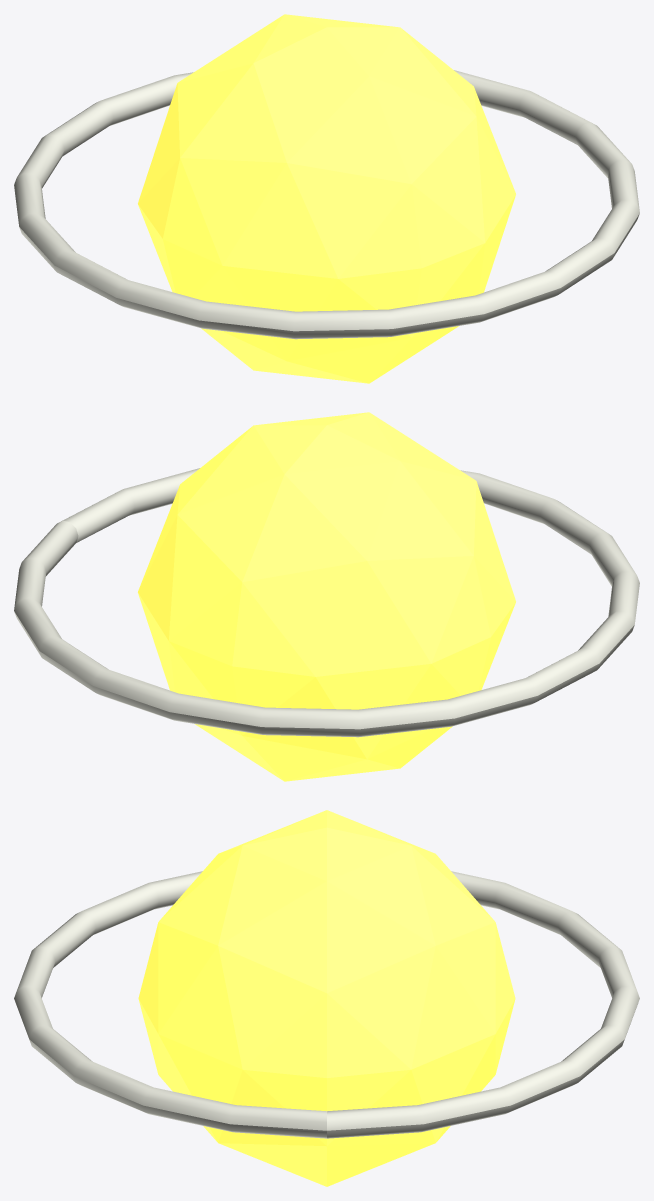
File: pickup-credit.glb
3 views of the same model, one above another, from view 1: azimuth 30°, elevation 25°; view 2: azimuth 150°, elevation 25°; view 3: azimuth 270°, elevation 25° (orthographic).
Parts seen in each view (by area): view 1: pickup_core, capture_ring; view 2: pickup_core, capture_ring; view 3: pickup_core, capture_ring.
Part boxes in pixels (x1,y1,x2,y2): pickup_core: [138, 14, 515, 383]; capture_ring: [14, 70, 639, 339]; pickup_core: [138, 412, 515, 781]; capture_ring: [14, 468, 639, 737]; pickup_core: [138, 810, 515, 1186]; capture_ring: [14, 871, 639, 1138].
Size of the model in its own units: 498 by 300 by 498.
